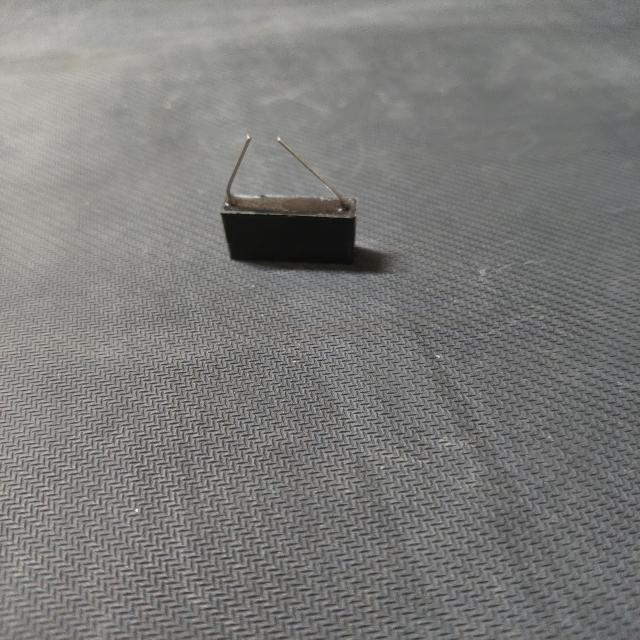capacitor: (204, 130, 378, 273)
